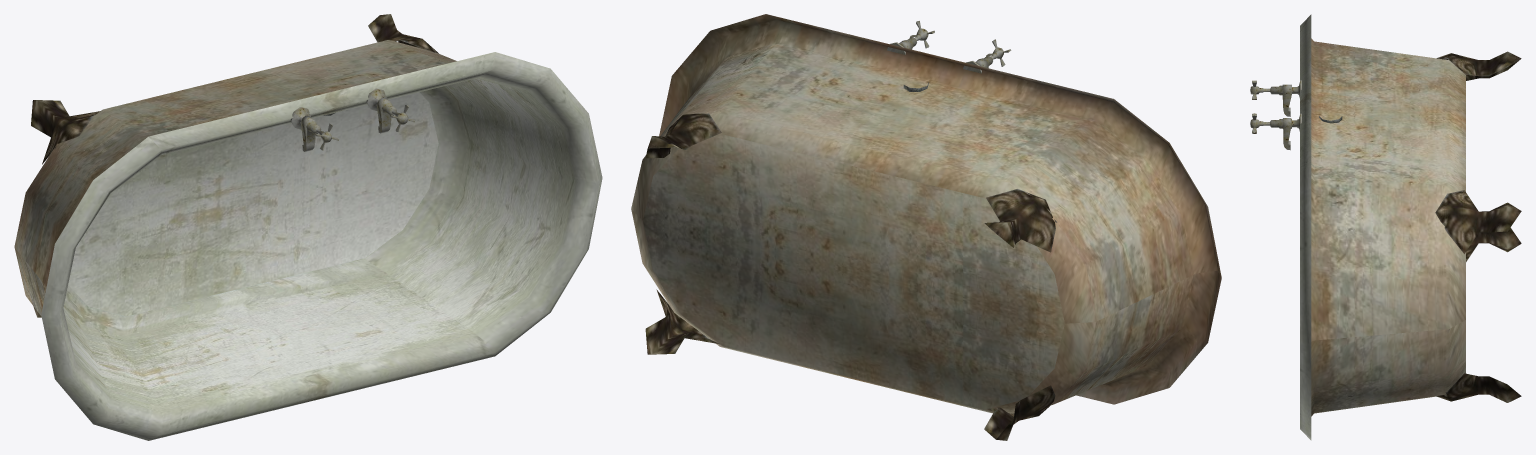
Rendered from furniture_frenchbathtub2.glb.
3 views of the same model, side by side, from view 1: azimuth 30°, elevation 25°; view 2: azimuth 150°, elevation 25°; view 3: azimuth 270°, elevation 25° (orthographic). The views are drawn at different scales.
Bounding box in the file's own units: 76.45 × 39.62 × 35.53.
Materials: 2 (2 with a texture image).
